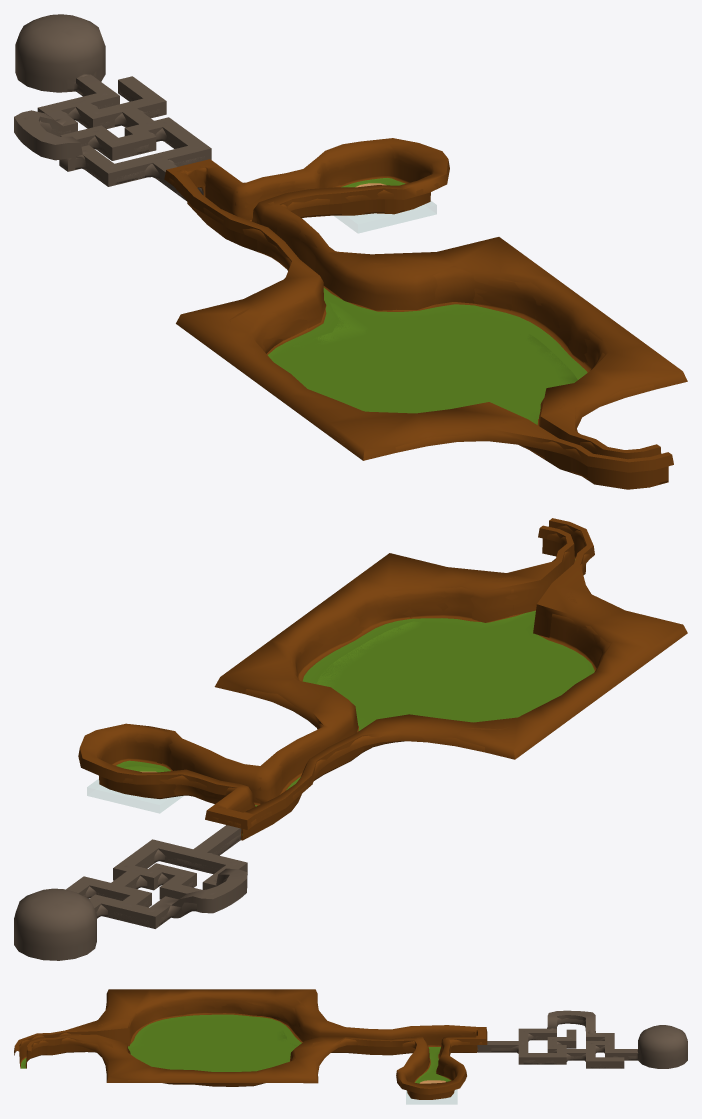
Rendered from Map Final 1.fbx.
3 views of the same model, one above another, from view 1: azimuth 30°, elevation 25°; view 2: azimuth 150°, elevation 25°; view 3: azimuth 270°, elevation 25° (orthographic). The views are drawn at different scales.
Parts seen in each view (by area): view 1: Terrain, Terrain_4, Water; view 2: Terrain, Terrain_4, Water; view 3: Terrain, Terrain_4, Water.
Boxes of the visible parts, x1,y1,x2,y2 form: Terrain: (14,14,687,489); Terrain_4: (24,15,668,483); Water: (335,201,436,232); Terrain: (14,518,687,960); Terrain_4: (34,525,668,925); Water: (87,779,182,812); Terrain: (14,989,687,1099); Terrain_4: (15,995,675,1097); Water: (406,1090,456,1103).
Bounding box in the file's own units: 21198 × 3354 × 59715.
